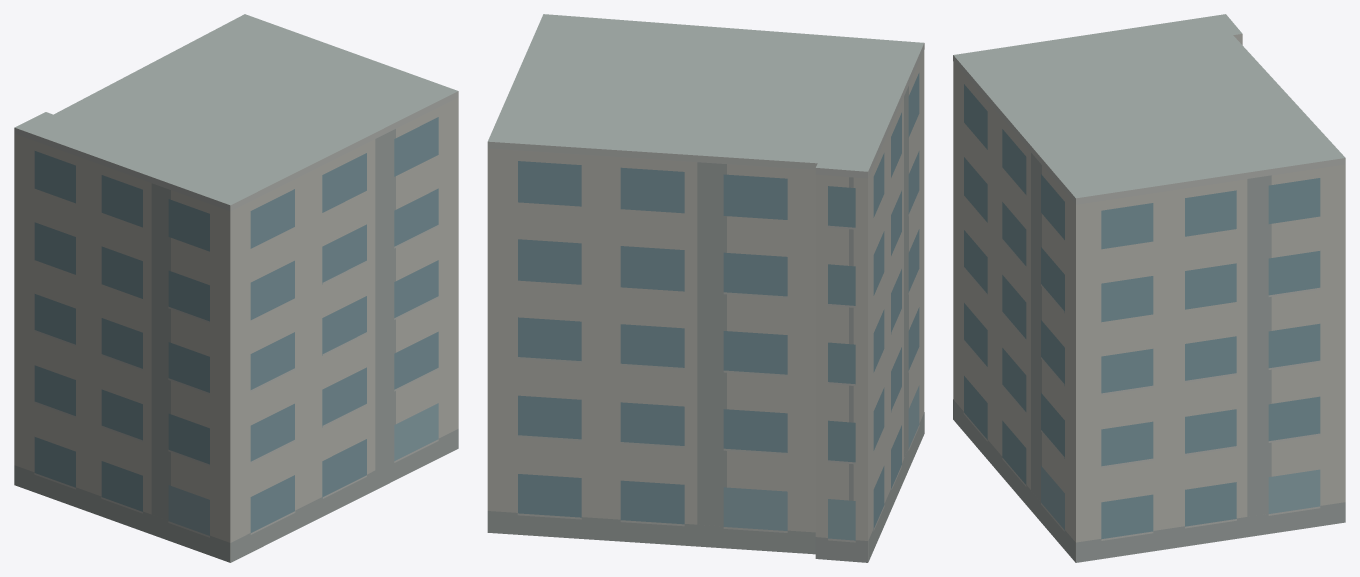
Rendered from survey-upis-32938714.glb.
3 renders of one model, left to right at view 1: azimuth 30°, elevation 25°; view 2: azimuth 150°, elevation 25°; view 3: azimuth 270°, elevation 25°, orthographic. The views are drawn at different scales.
Parts seen in each view (by area): view 1: survey-upis-32938714.tmp; view 2: survey-upis-32938714.tmp; view 3: survey-upis-32938714.tmp.
Boxes of the visible parts, x1,y1,x2,y2 form: survey-upis-32938714.tmp: (14, 14, 458, 562); survey-upis-32938714.tmp: (487, 14, 924, 562); survey-upis-32938714.tmp: (953, 14, 1345, 562).
Size of the model in its own units: 15.19 by 14 by 13.67.
